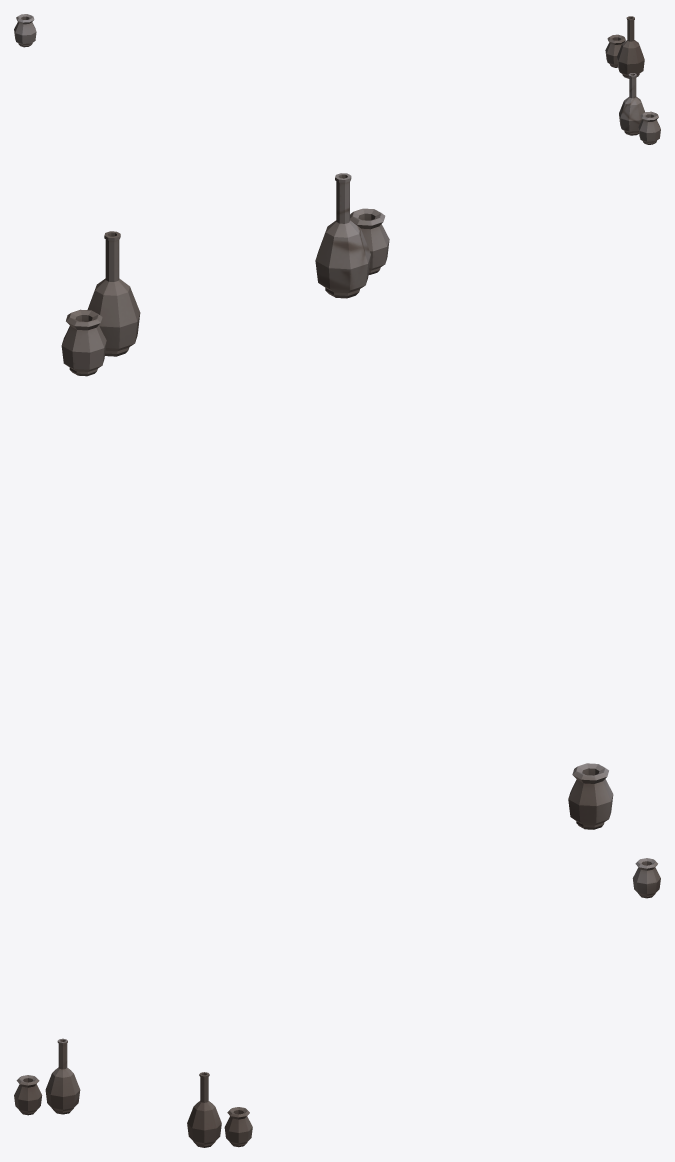
3 views of the same model, one above another, from view 1: azimuth 30°, elevation 25°; view 2: azimuth 150°, elevation 25°; view 3: azimuth 270°, elevation 25° (orthographic). The views are drawn at different scales.
Visible parts, largest first — view 1: Ob_01; view 2: Ob_01; view 3: Ob_01.
Boxes of the visible parts, x1=… form: Ob_01: x1=14, y1=14, x2=660, y2=144; Ob_01: x1=61, y1=173, x2=613, y2=829; Ob_01: x1=14, y1=858, x2=660, y2=1147.
Size of the model in its own units: 15.25 by 1.9 by 15.9.
